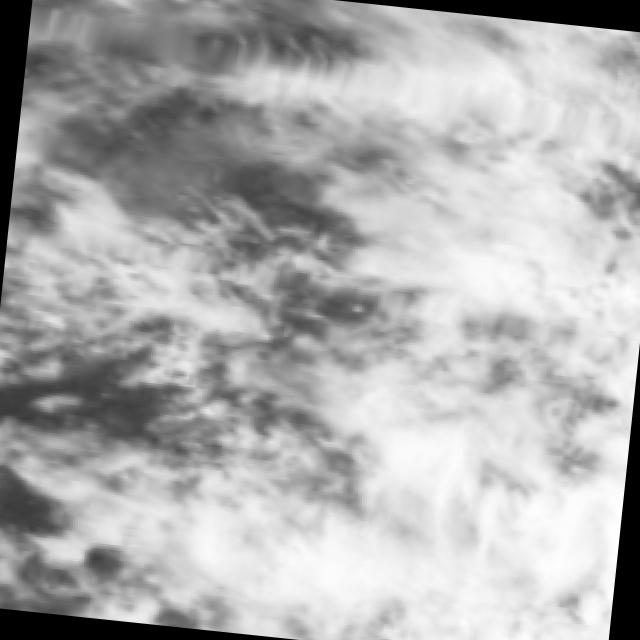CB: (394, 487, 609, 640)
